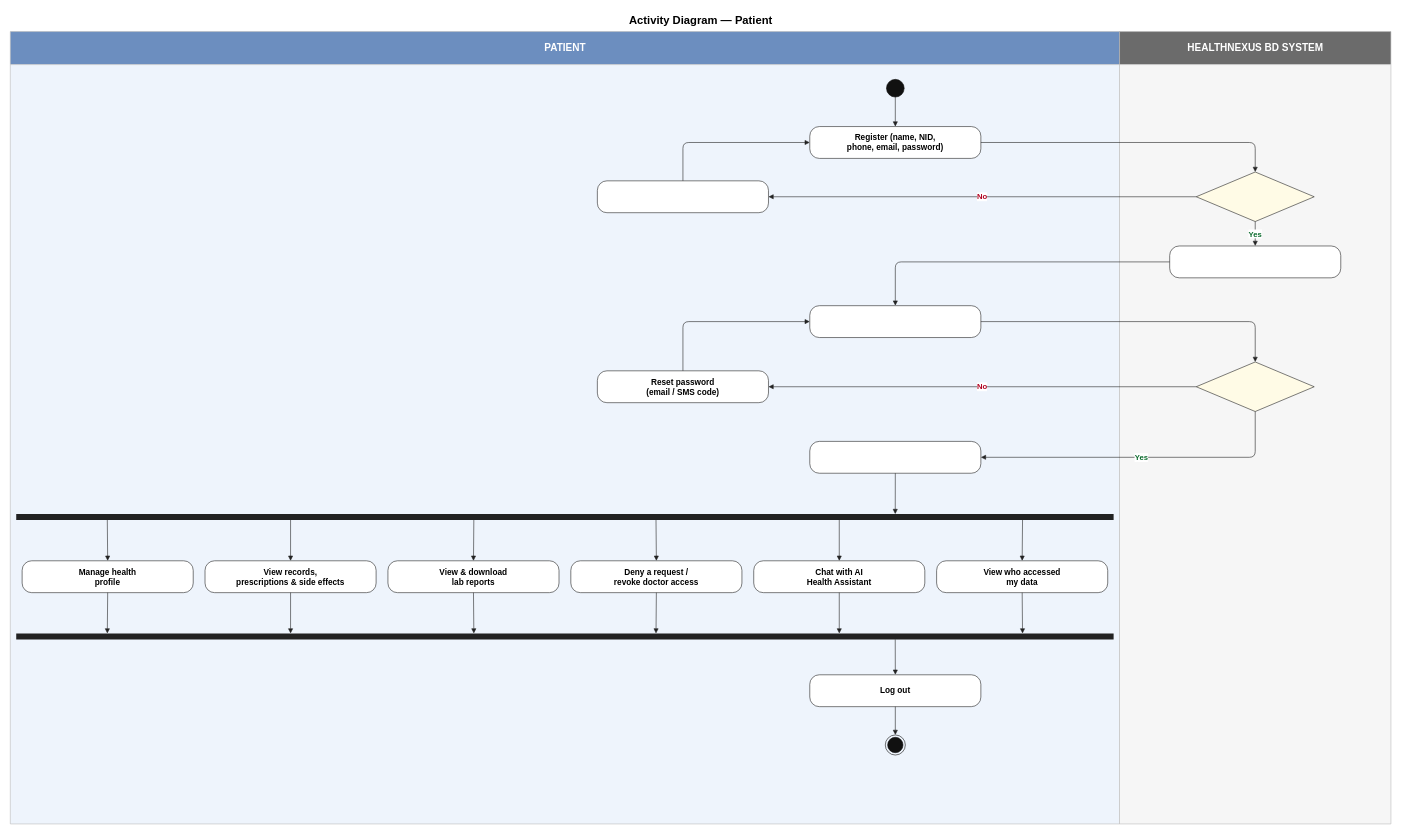
Image size: 1401x834. Some labels were removed from this diagram. Each missing label, with the centre of its shape:
Correct the details: (x=682, y=196)
Create account & generate UHID: (x=1255, y=261)
Details valid & not used before?: (x=1255, y=196)
Log in (email or phone): (x=895, y=321)
Open patient dashboard: (x=895, y=457)
Password correct?: (x=1255, y=386)
